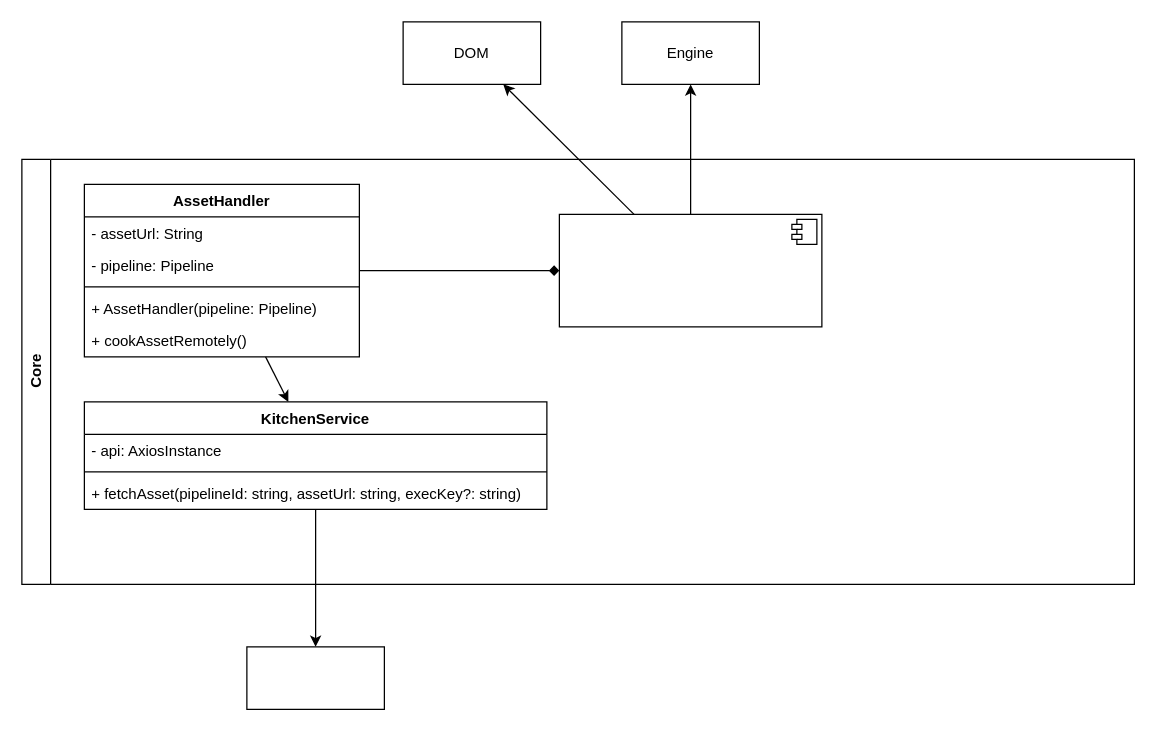
Image size: 1156x731. Some labels were removed from this diagram. The centre of each missing label's shape, as x and y in pixels:
Director + pipeline: File - assetHandler: AssetHandler: point (690, 270)
Server: point (315, 677)
